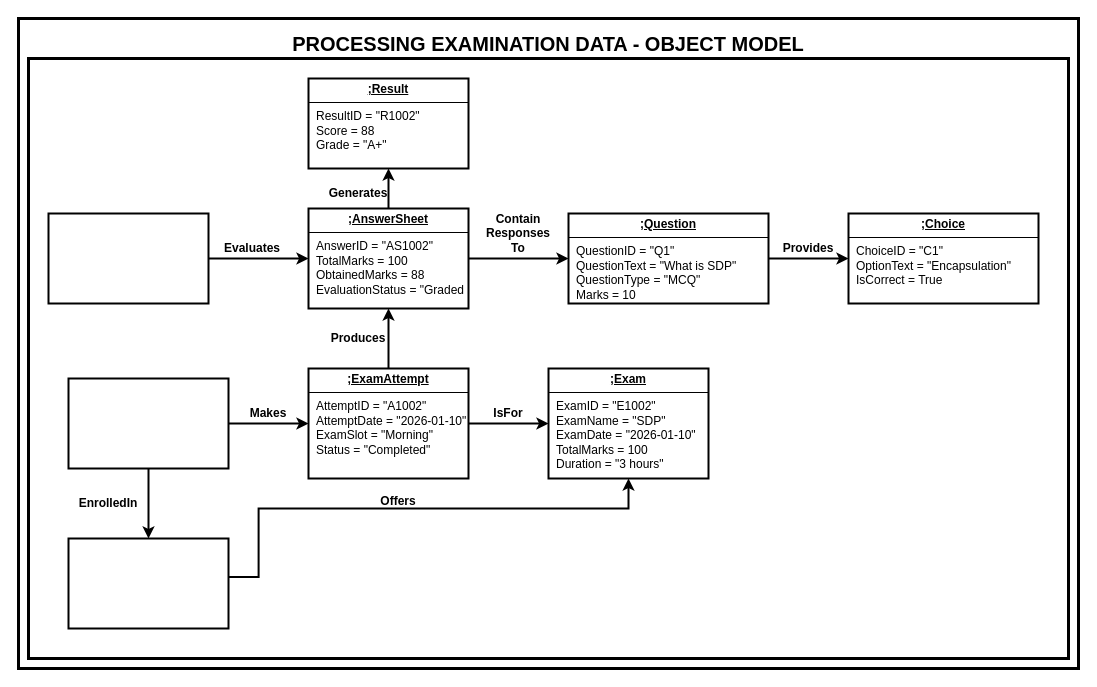
Image size: 1097x687. Some labels were removed from this diagram. The centre of each missing label's shape, as x and y in pixels:
;Course CourseID = "CSE367" CourseName = "SDP" Credits = 4: [148,583]
;Examiner ExaminerId = "E100" Name = "Dr. Meeta Singh" Department = "CSE SET": [128,258]
;Student RollNo = "067" Name = "Snowman" Program = "BTech": [148,423]
